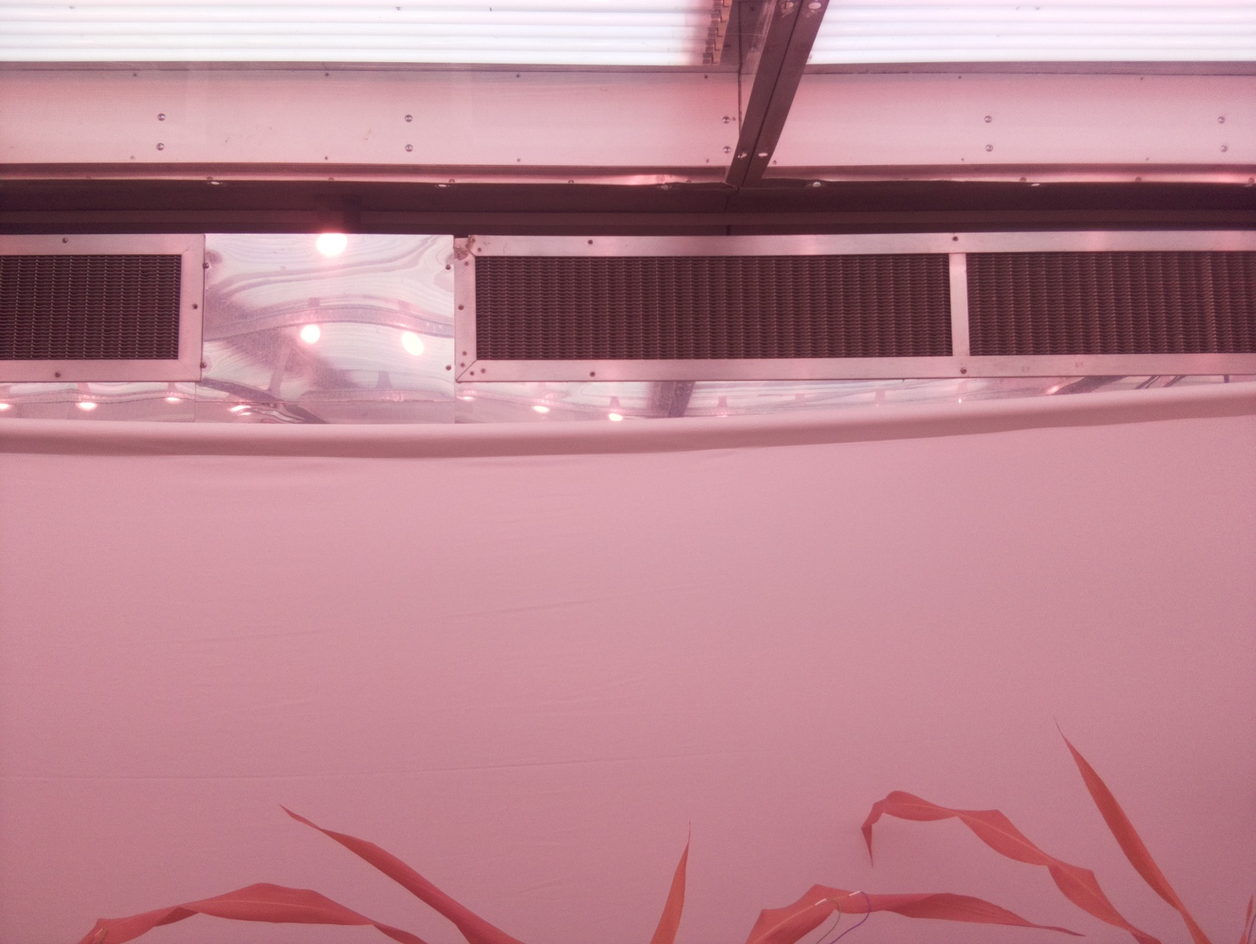maize: (743, 712, 1256, 944), (76, 801, 695, 944)
